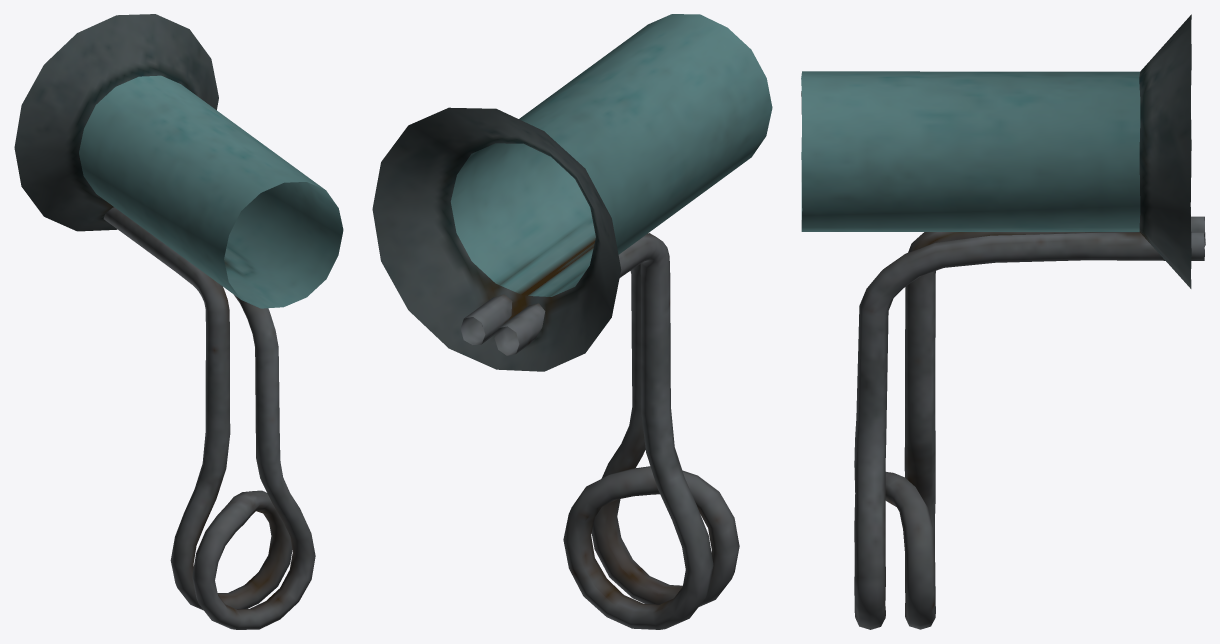
The model's file is pole_line1_base.fbx.
The picture shows the model from 3 angles, left to right: view 1: azimuth 30°, elevation 25°; view 2: azimuth 150°, elevation 25°; view 3: azimuth 270°, elevation 25°; orthographic projection. The views are drawn at different scales.
Visible parts, largest first — view 1: spining01.005; view 2: spining01.005; view 3: spining01.005.
Part boxes in pixels (box(x1,y1,x2,y2)): spining01.005: box(14, 14, 343, 629); spining01.005: box(372, 14, 772, 629); spining01.005: box(801, 14, 1205, 629).
Bounding box in the file's own units: 2.5 × 5.98 × 3.68.
1 material, 1 textured.
